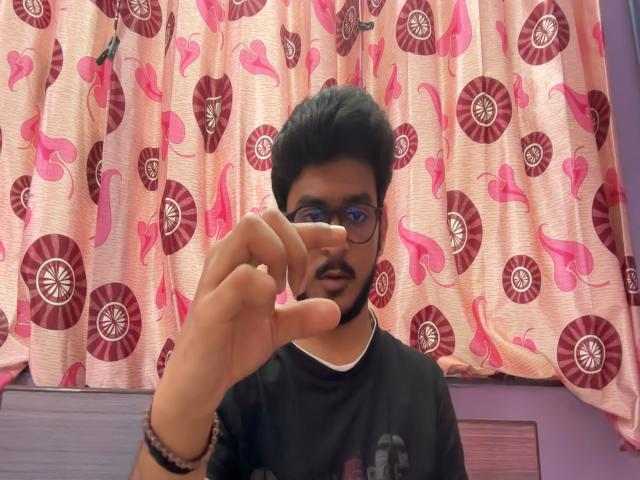No: (158, 199, 360, 427)
